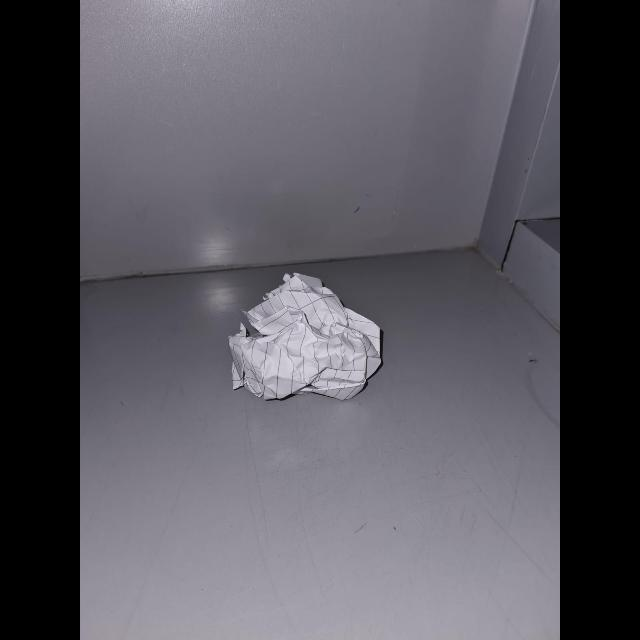scrap_paper: (226, 270, 390, 406)
